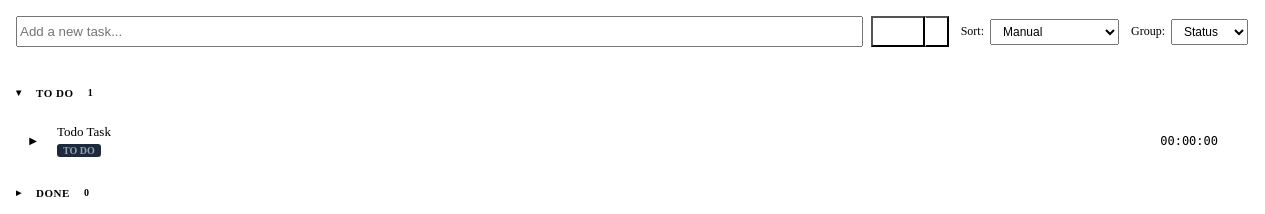
Scenario: TaskList - To Do stays visible › remembers which groups were collapsed
The width and height of the screenshot is (1265, 214).
Click the heading "▾ To Do 1".
click(55, 92)  # box top-left (16, 86), bottom-right (93, 98)
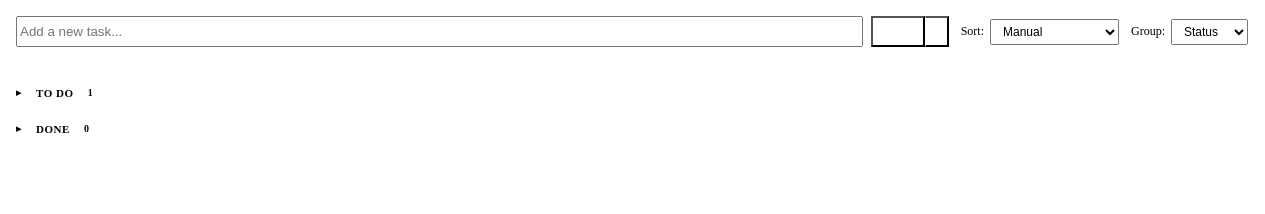
Check: the text "Todo Task" is gone
